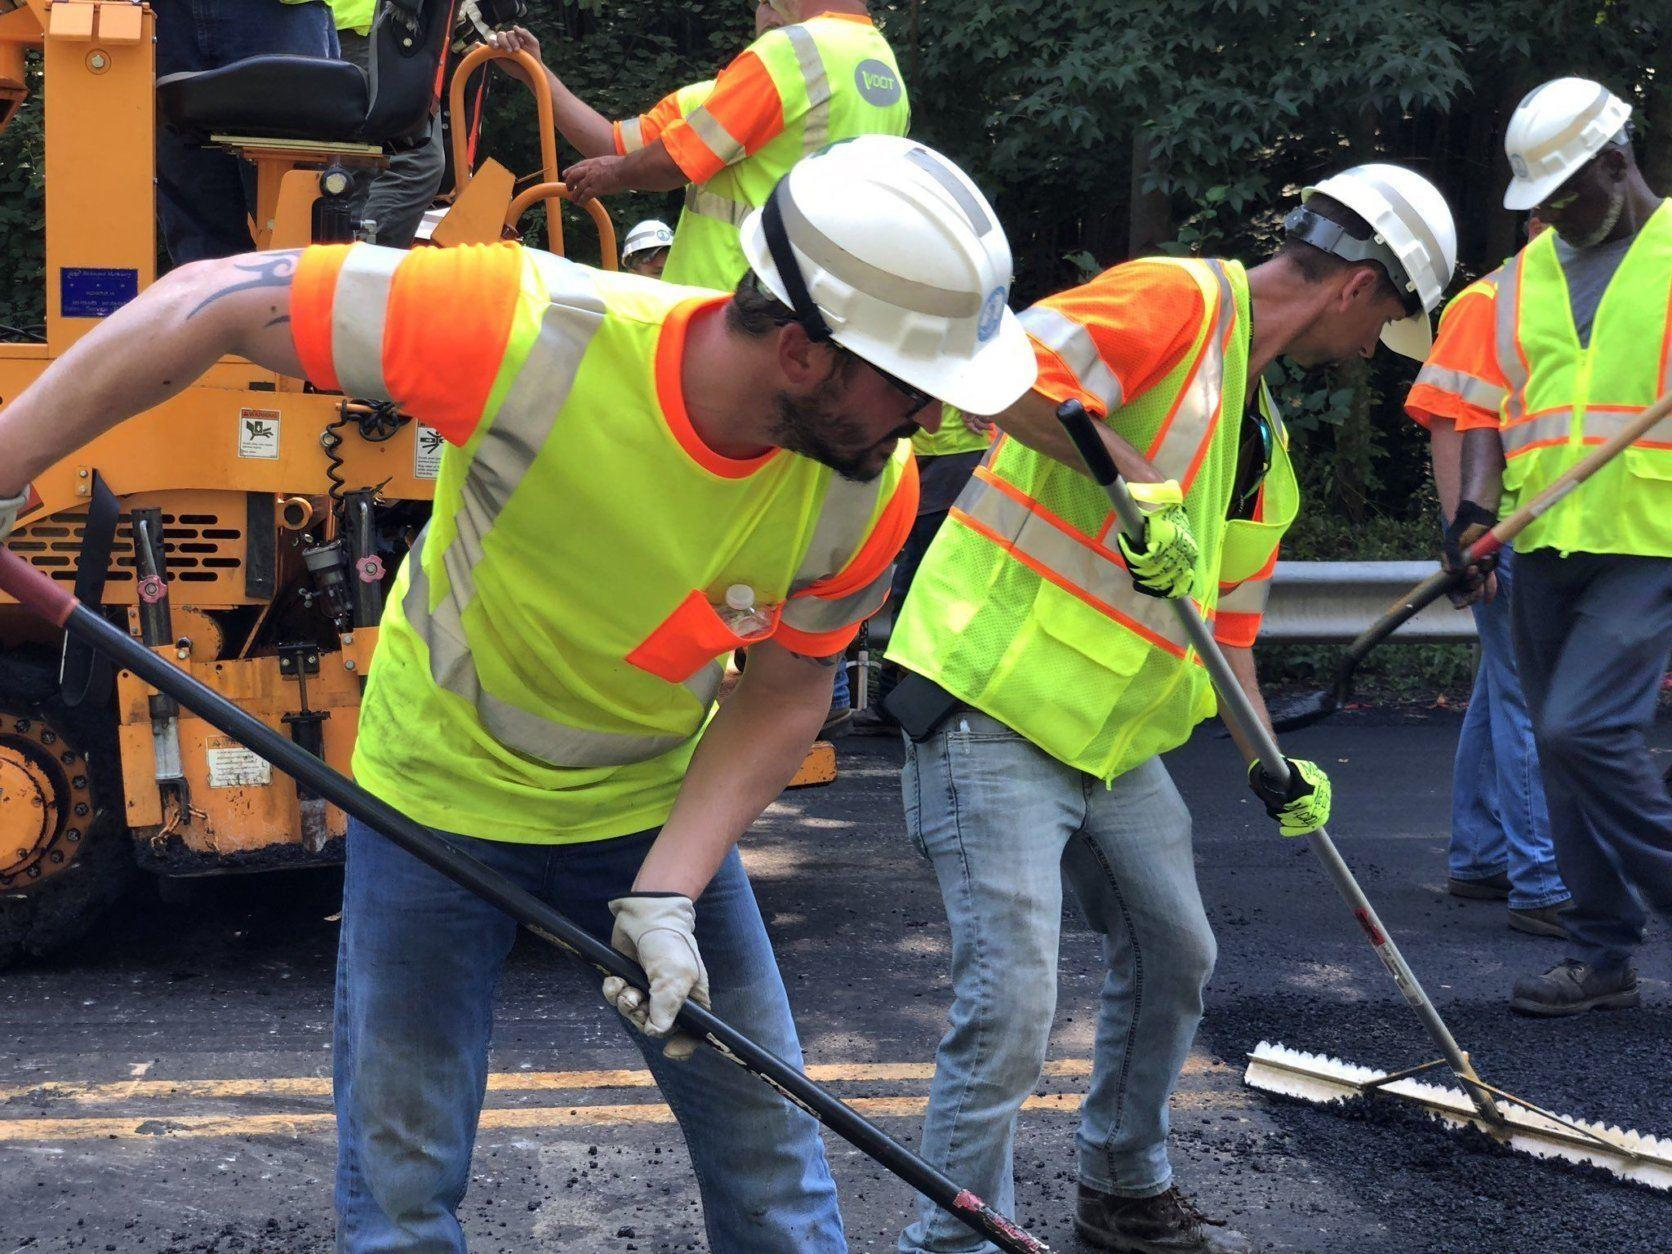helmet: (754, 134, 1037, 423), (1297, 163, 1457, 310), (1497, 74, 1627, 215)
